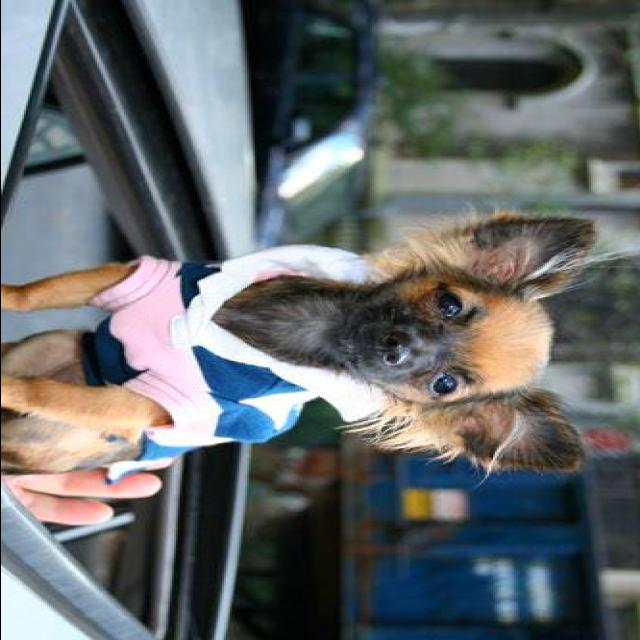chihuahua: (2, 205, 613, 480)
